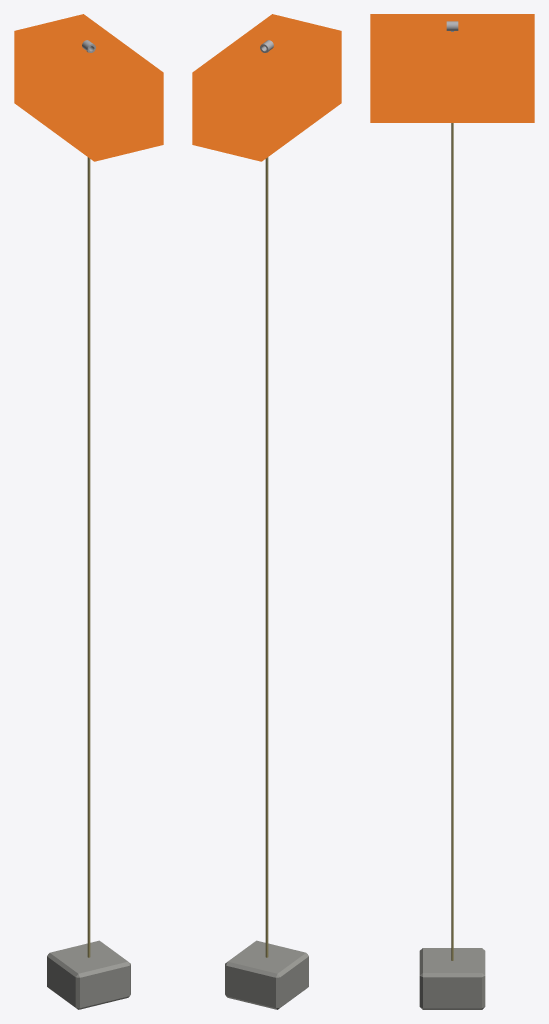
The model's file is hedef_samandira.glb.
The picture shows the model from 3 angles, left to right: view 1: azimuth 30°, elevation 25°; view 2: azimuth 150°, elevation 25°; view 3: azimuth 270°, elevation 25°; orthographic projection. The views are drawn at different scales.
Visible parts, largest first — view 1: COL_hedef, hedef; view 2: COL_hedef, hedef; view 3: COL_hedef, hedef.
Boxes of the visible parts, box(x1,y1,x2,y2) form: COL_hedef: box(14, 14, 163, 161); hedef: box(47, 40, 130, 1009); COL_hedef: box(192, 14, 341, 161); hedef: box(225, 40, 308, 1009); COL_hedef: box(370, 14, 534, 122); hedef: box(419, 21, 485, 1009).
Bounding box in the file's own units: 0.5 × 6.56 × 1.
